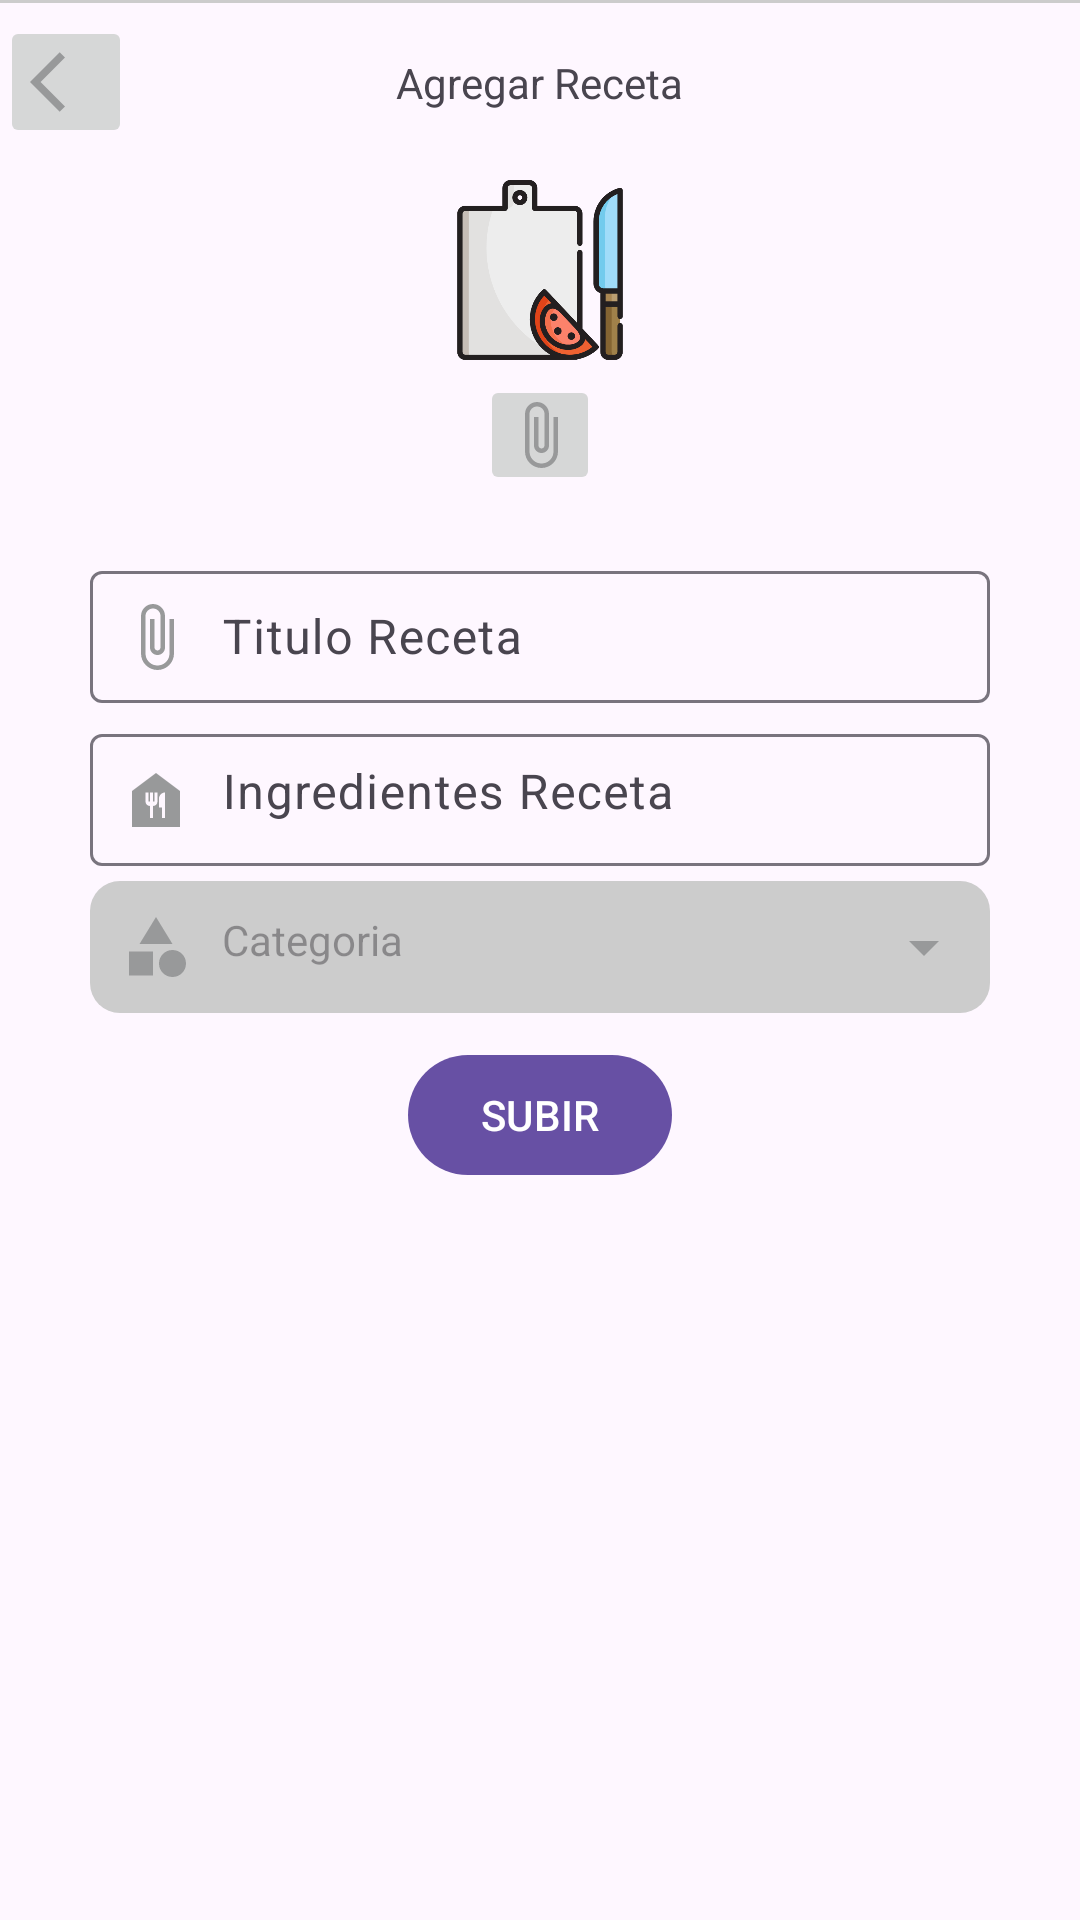

Icons on this 1080 x 1920 Android screen, each with the point to tap as (x=x, y=y):
adjuntarimg: (x=540, y=435)
volver: (x=66, y=82)
